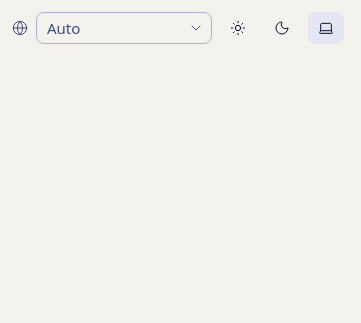
Test: display preferences › opens no dialog layer of its own
Click the dropdown named "Language": [110, 28] box [37,12,184,44]
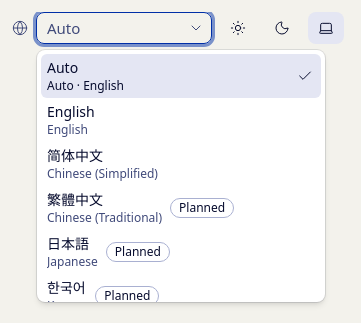
Now the list is shown
